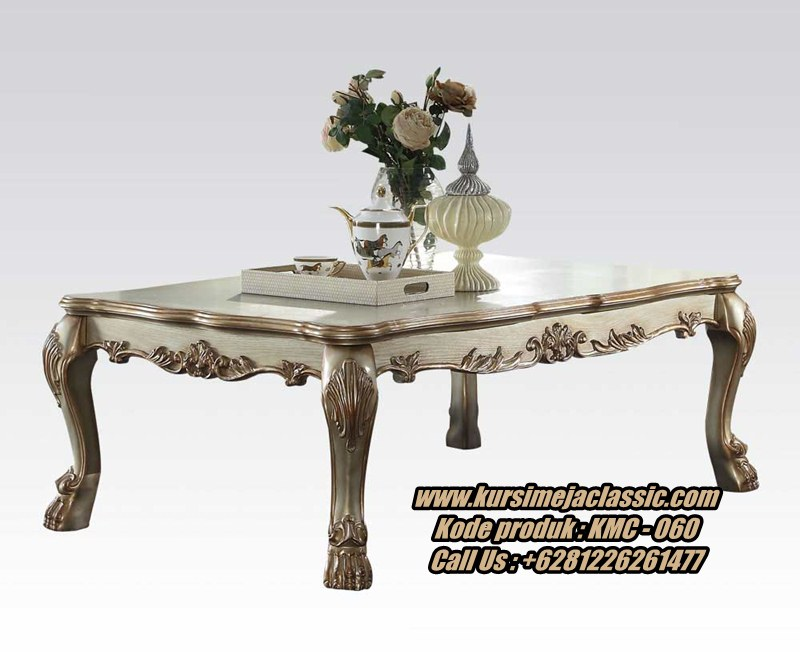Carving Table: (27, 241, 770, 585)
